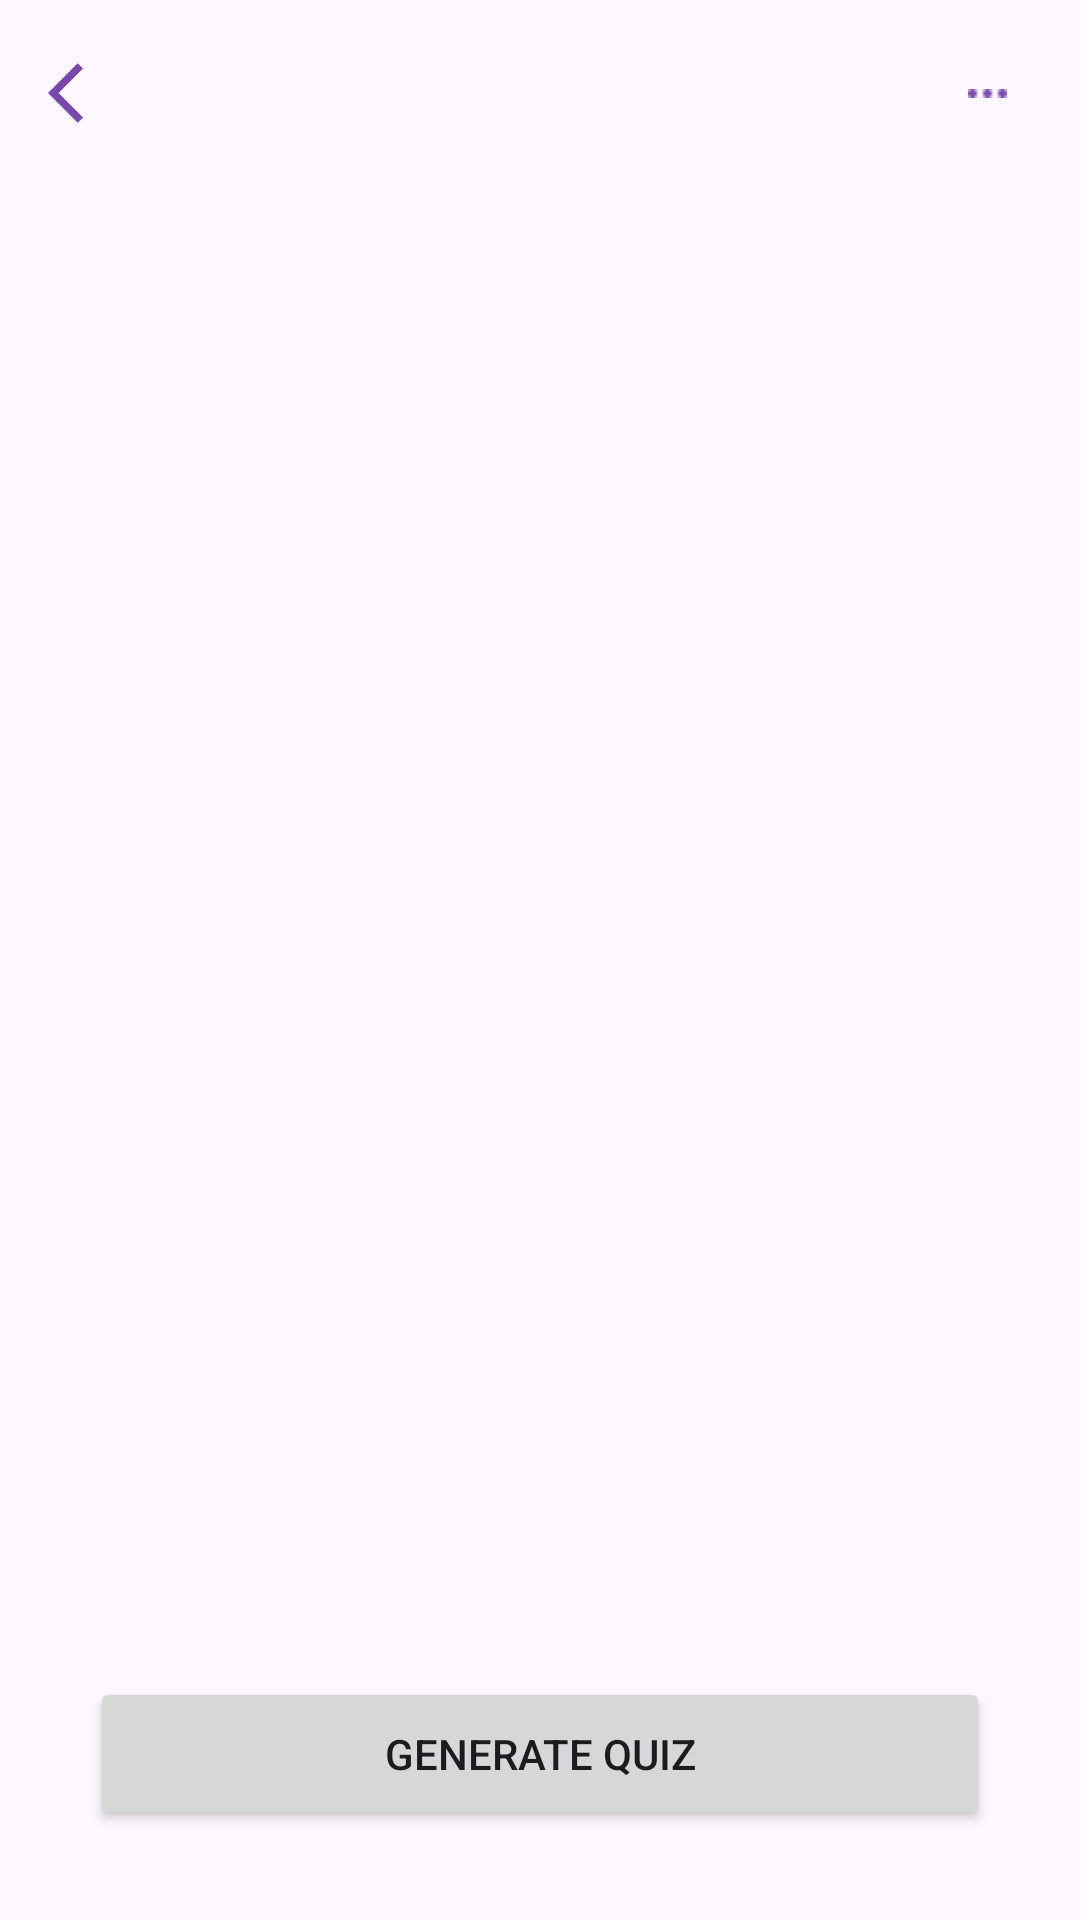

Icon bounding boxes for this 1080x1920 phone screenshot, format {"left": x1, "top": y1, "right": x2, "bottom": y2}:
Back: {"left": 48, "top": 63, "right": 83, "bottom": 123}
Menu: {"left": 968, "top": 89, "right": 1007, "bottom": 98}
